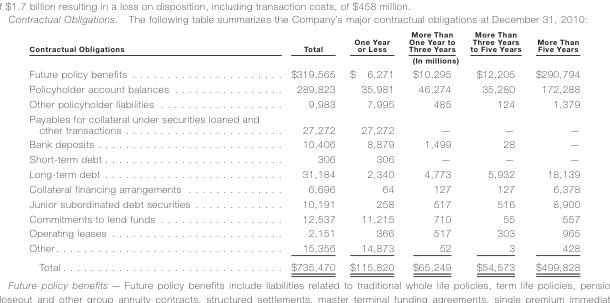table: (28, 29, 579, 271)
table column: (28, 29, 274, 271), (274, 29, 341, 271), (462, 29, 527, 271), (400, 29, 462, 271), (341, 29, 400, 271), (527, 29, 579, 271)
table column header: (28, 29, 579, 65)
table row: (28, 110, 579, 136), (28, 29, 579, 53), (28, 240, 579, 257), (28, 65, 579, 81), (28, 95, 579, 110), (28, 136, 579, 151), (28, 151, 579, 166), (28, 166, 579, 181), (28, 195, 579, 210), (28, 210, 579, 225), (28, 225, 579, 240), (28, 81, 579, 95), (28, 181, 579, 195), (28, 257, 579, 271), (28, 53, 579, 65)
table spanning cell: (28, 29, 274, 65), (274, 53, 579, 65)
